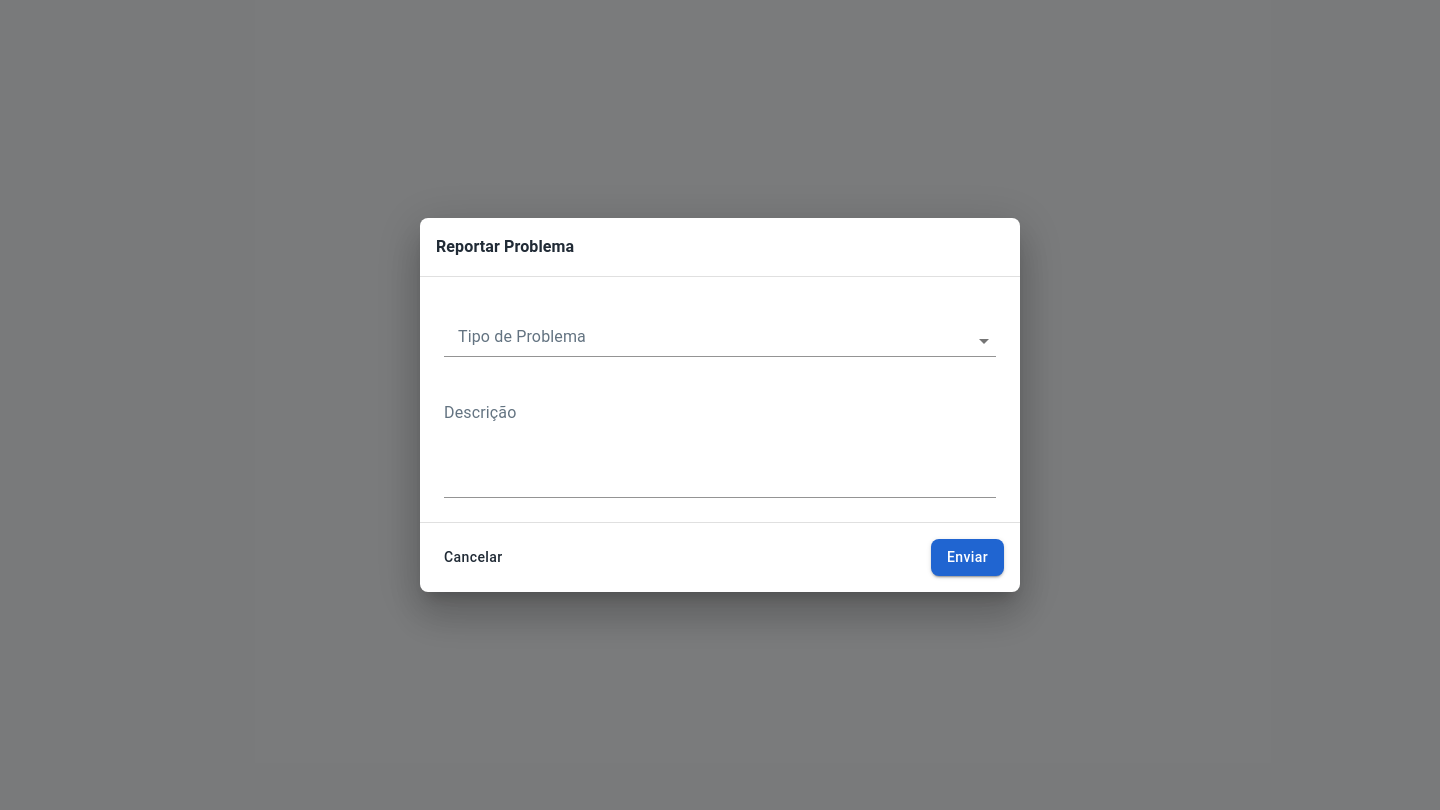
ReportErrorDialog (M11) › exige descrição com pelo menos 5 caracteres
In the text box labelled "Descrição": (720, 447) [444,401,996,493], type "oi"
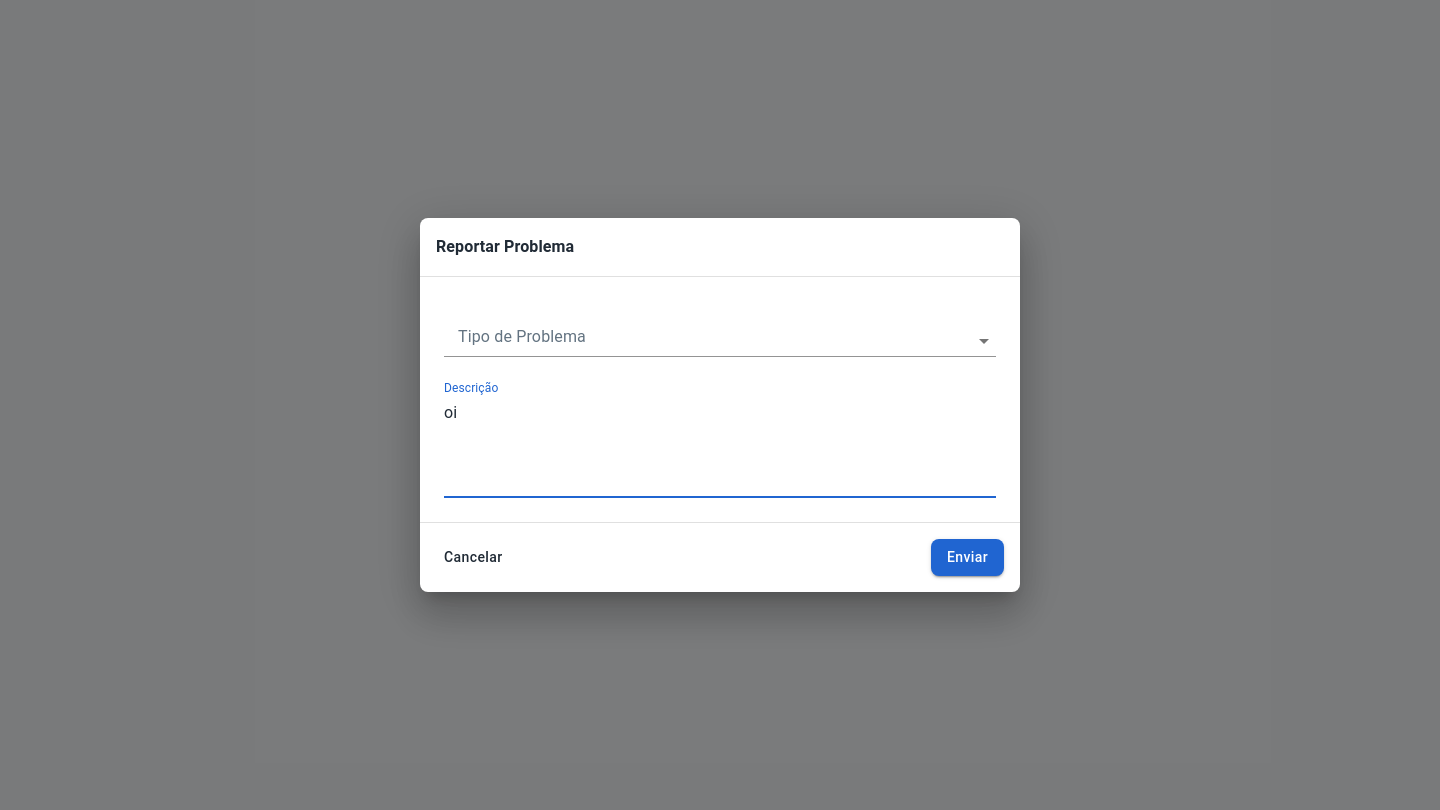
Click the button "Enviar": (967, 557) [931,539,1004,576]
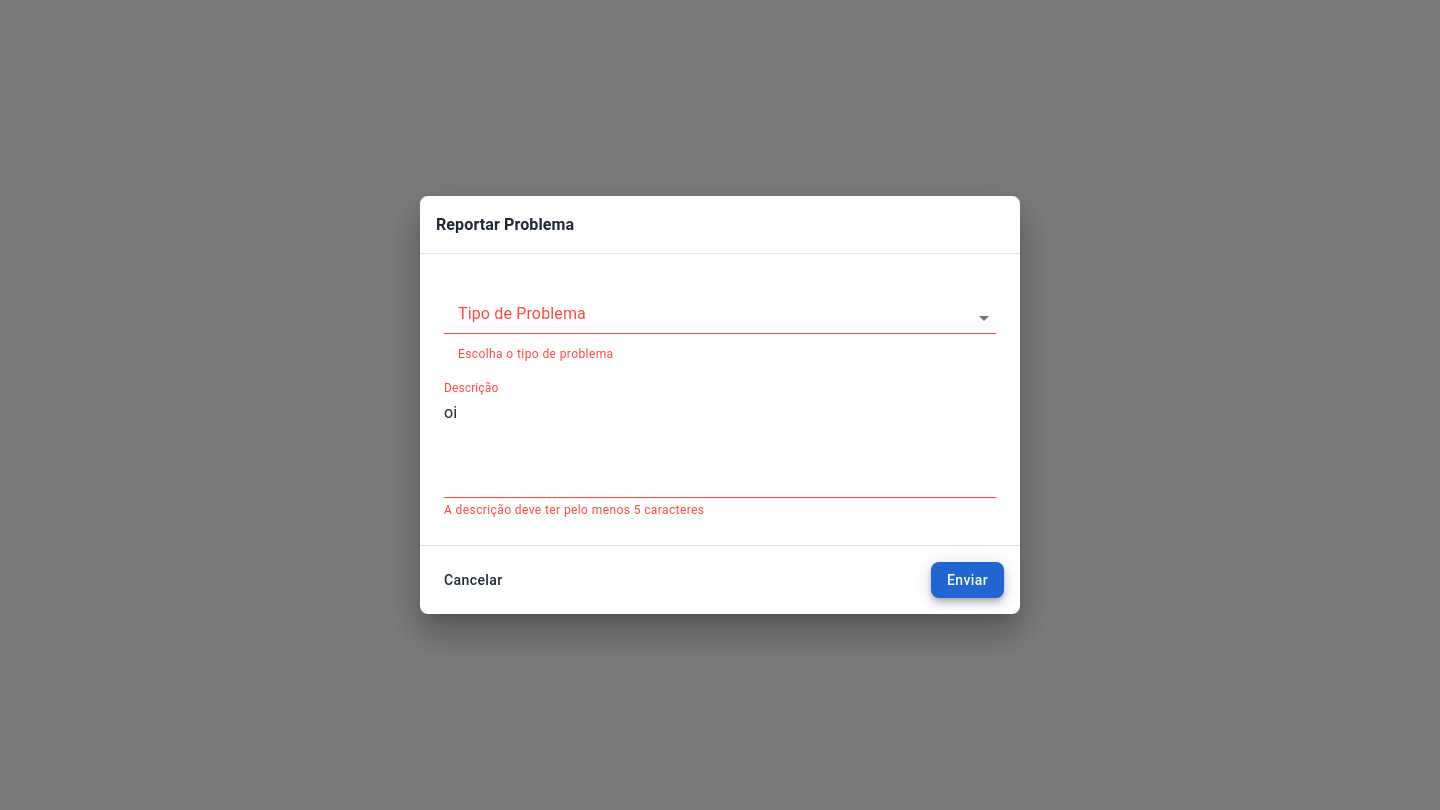
Expected: the text "A descrição deve ter pelo menos 5 caracteres" is shown, [444,503,704,517]
